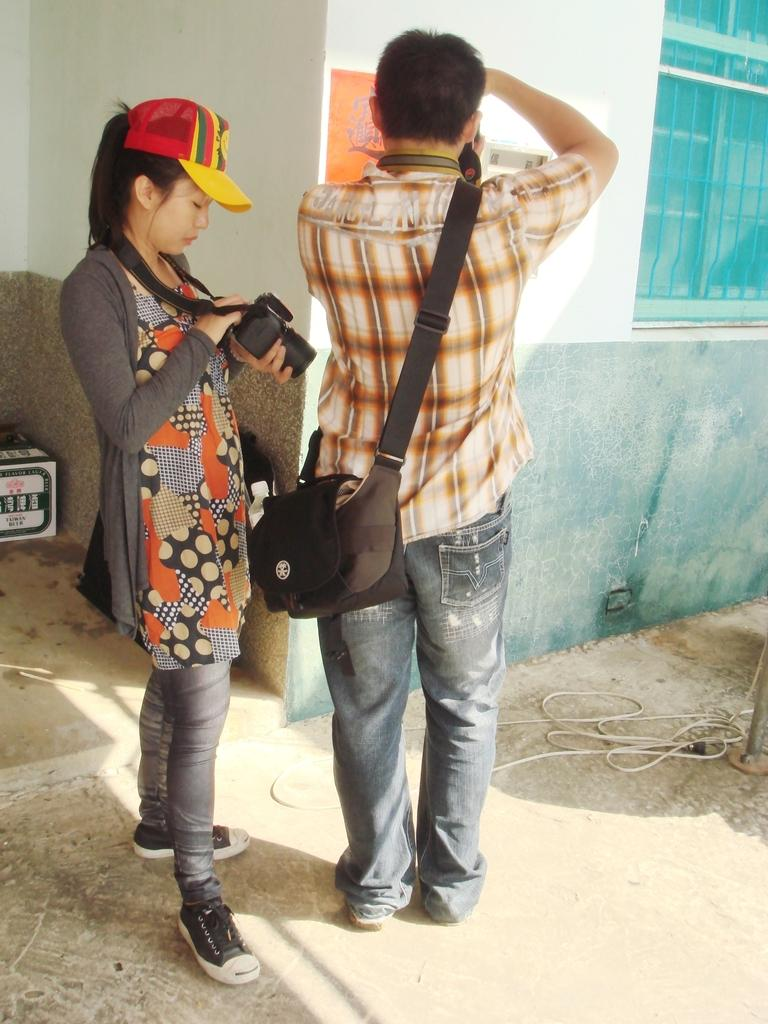Hat: (117, 98, 253, 213)
